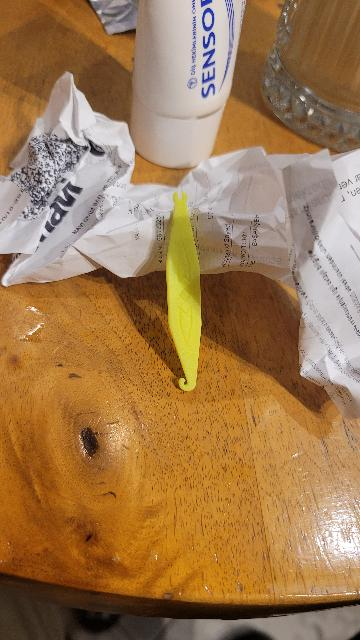Kagit: (207, 129, 360, 393), (8, 65, 169, 297)
Plastik: (123, 0, 251, 173), (159, 185, 212, 402)
